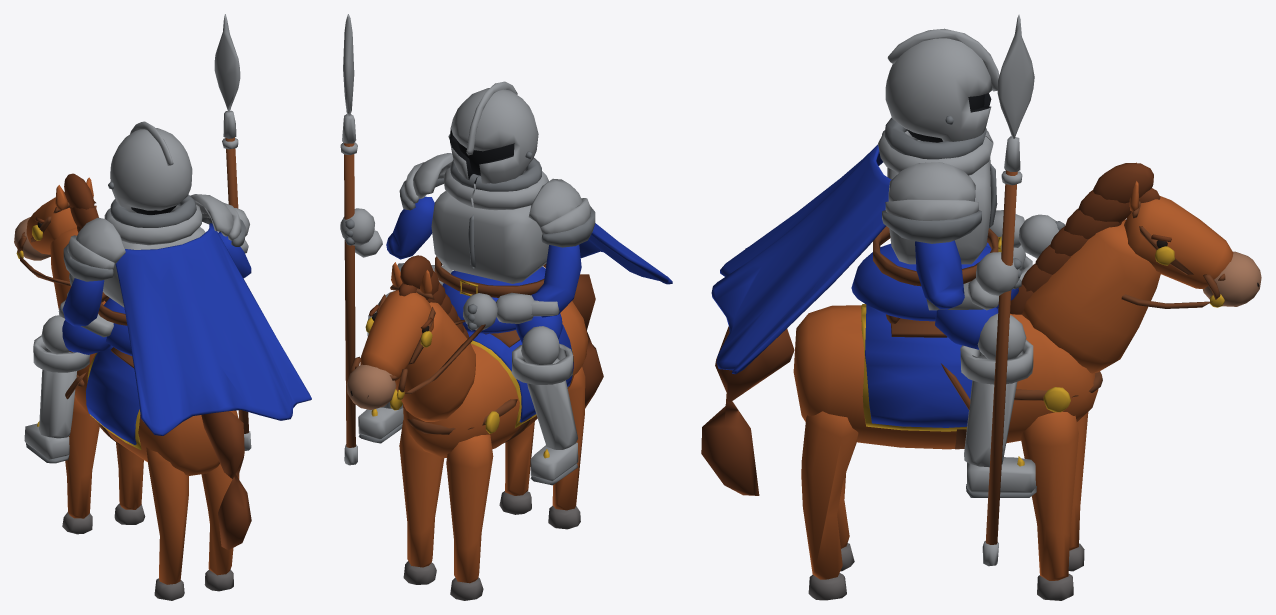
Rendered from quickfeet.glb.
3 renders of one model, left to right at view 1: azimuth 30°, elevation 25°; view 2: azimuth 150°, elevation 25°; view 3: azimuth 270°, elevation 25°, orthographic. The views are drawn at different scales.
Visible parts, largest first — view 1: Body.001, Cape.002, LegBR, Tail, LegFR, LegBL, LegFL; view 2: Body.001, LegFR, LegFL, LegBR, LegBL, Cape.002, Tail; view 3: Body.001, Cape.002, LegFL, LegBL, Tail, LegFR, LegBR.
Boxes of the visible parts, x1,y1,x2,y2 form: Body.001: (14,14,251,475); Cape.002: (115,223,311,435); LegBR: (146,447,188,600); Tail: (201,411,251,550); LegFR: (62,395,99,534); LegBL: (201,463,239,591); LegFL: (114,442,145,524); Body.001: (340,14,595,485); LegFR: (446,434,493,600); LegFL: (399,420,444,584); LegBR: (548,367,585,529); LegBL: (499,421,534,514); Cape.002: (579,223,672,284); Tail: (572,274,603,408); Body.001: (793,14,1261,566); Cape.002: (711,144,891,374); LegFL: (1020,411,1078,600); LegBL: (801,411,858,600); Tail: (701,326,794,495); LegFR: (1068,412,1088,571); LegBR: (837,472,854,571).
Bounding box in the file's own units: 0.6595 × 1.48 × 1.19.
